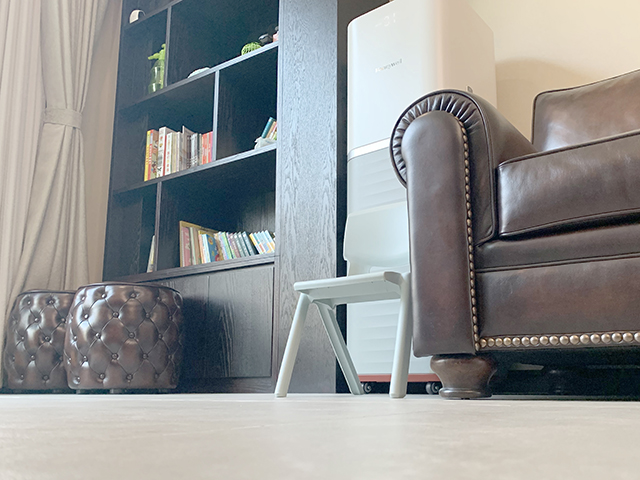cabinet: (102, 1, 351, 395)
sofa: (388, 66, 640, 401)
stool: (274, 199, 414, 400), (64, 281, 184, 395), (4, 289, 77, 393)
